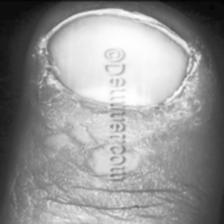Toxin: (88, 139, 108, 177), (125, 144, 140, 174), (130, 214, 163, 224)
